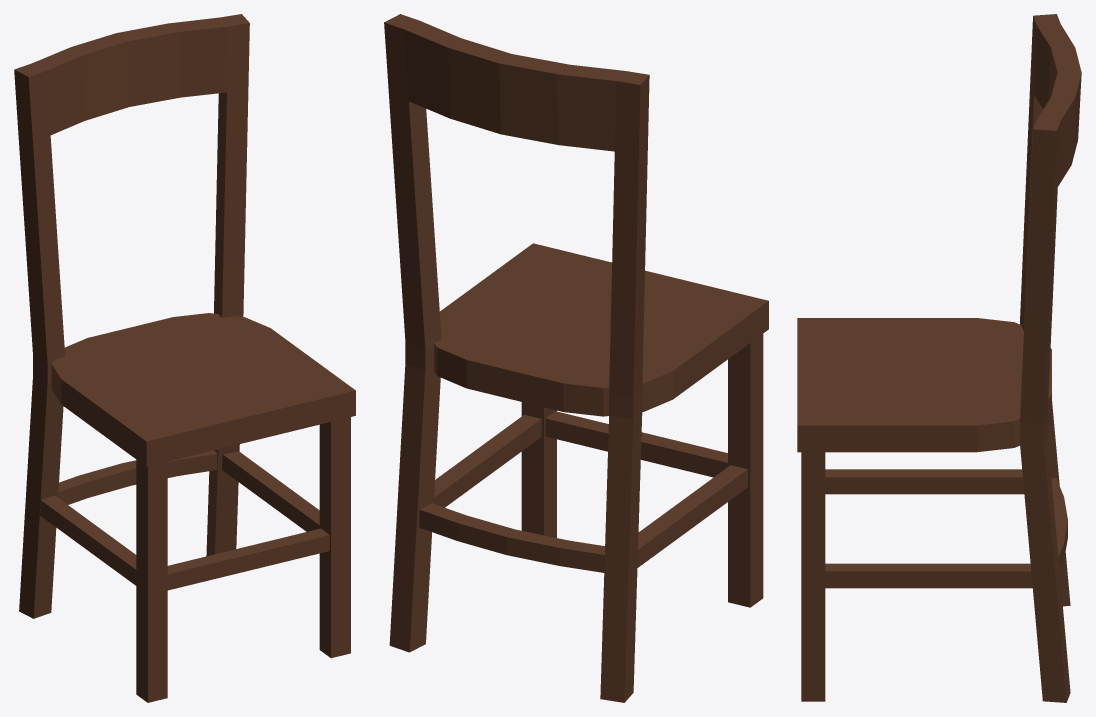
The model's file is SM_Props_Cafe_05.fbx.
The picture shows the model from 3 angles, left to right: view 1: azimuth 30°, elevation 25°; view 2: azimuth 150°, elevation 25°; view 3: azimuth 270°, elevation 25°; orthographic projection. The views are drawn at different scales.
Visible parts, largest first — view 1: SM_Props_Cafe_05; view 2: SM_Props_Cafe_05; view 3: SM_Props_Cafe_05.
Boxes of the visible parts, x1,y1,x2,y2 form: SM_Props_Cafe_05: [14, 14, 355, 702]; SM_Props_Cafe_05: [384, 14, 768, 702]; SM_Props_Cafe_05: [797, 14, 1081, 702].
Size of the model in its own units: 0.4351 by 1 by 0.4467.
